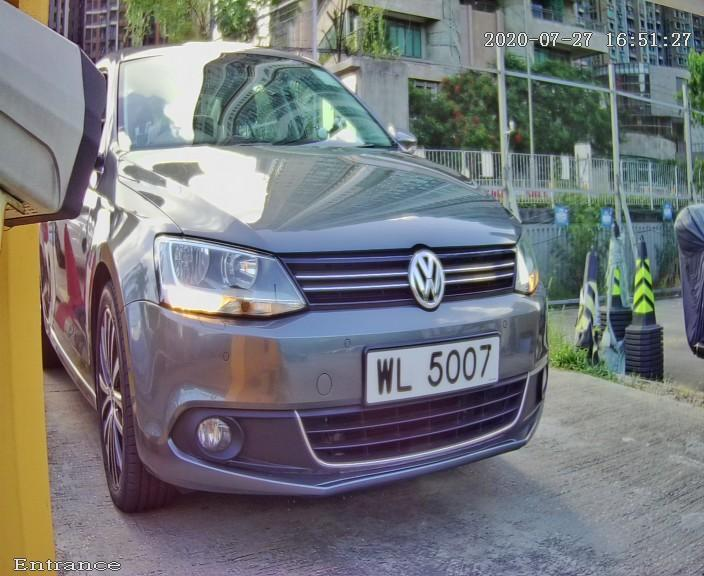privatecar: (35, 16, 610, 528)
